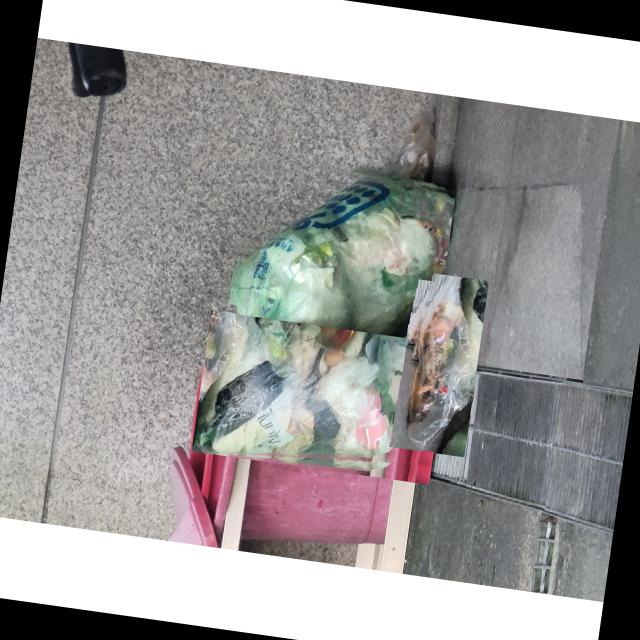general_trashbag: (230, 174, 454, 337), (194, 317, 446, 459), (284, 415, 284, 416)
other_trashbag: (406, 275, 475, 451)
